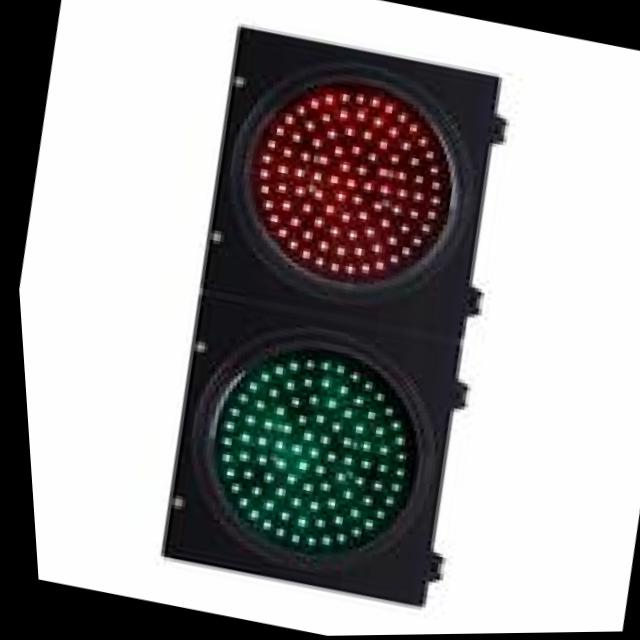green_light: (109, 296, 532, 639)
red_light: (155, 6, 601, 386)
